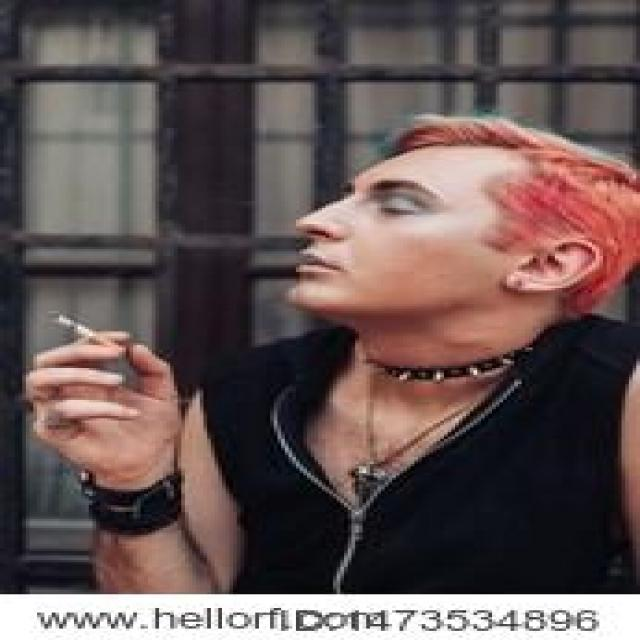Сигарета: (54, 310, 116, 344)
Тело: (29, 114, 640, 594)
